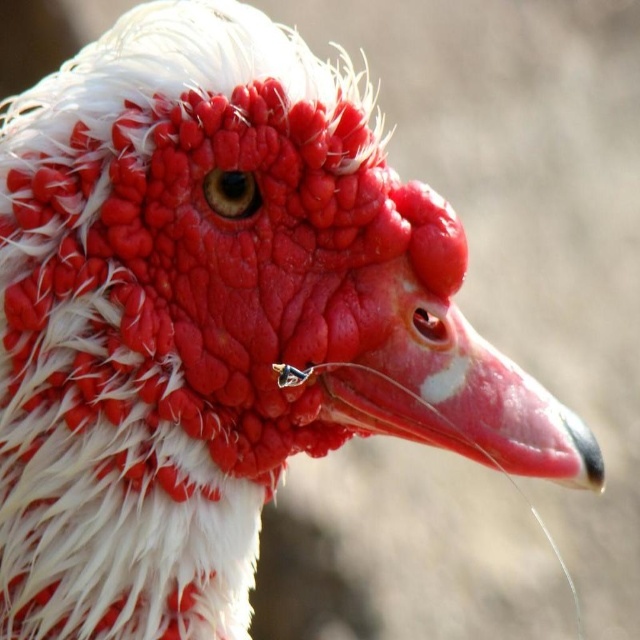Duck: (0, 0, 604, 640)
